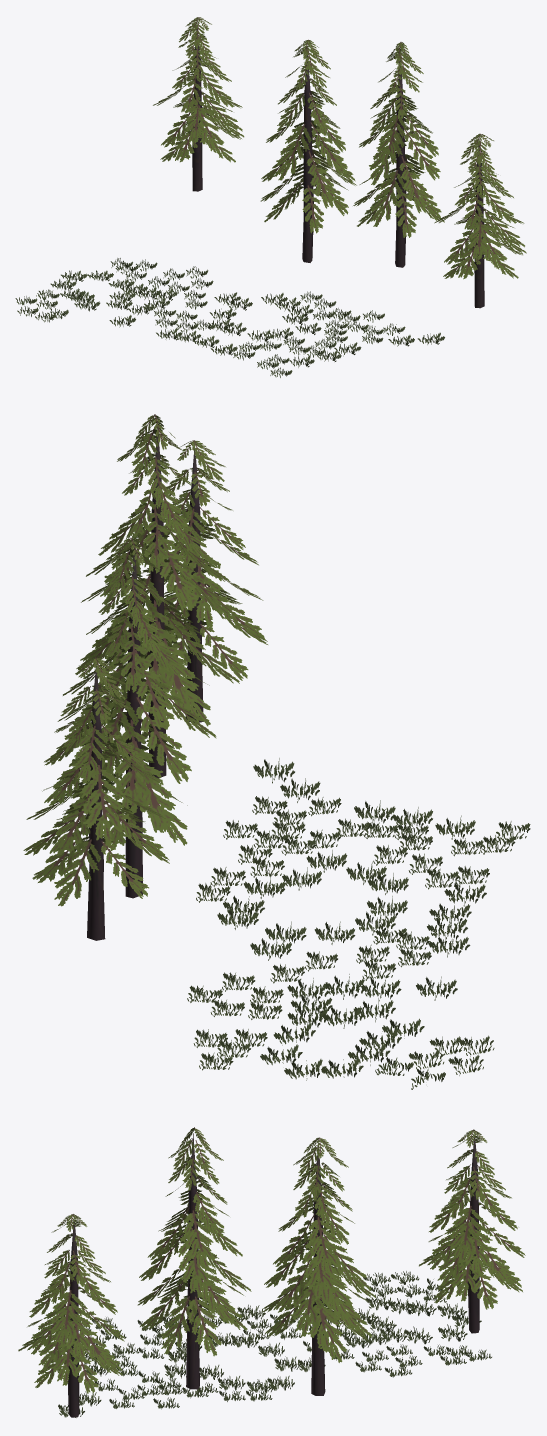
File: Ciudad_piedras03.fbx
3 views of the same model, one above another, from view 1: azimuth 30°, elevation 25°; view 2: azimuth 150°, elevation 25°; view 3: azimuth 270°, elevation 25° (orthographic). The views are drawn at different scales.
Visible parts, largest first — view 1: Ciudad_piedras03; view 2: Ciudad_piedras03; view 3: Ciudad_piedras03.
Boxes of the visible parts, bbox=[...] form: Ciudad_piedras03: bbox=[15, 17, 526, 377]; Ciudad_piedras03: bbox=[23, 414, 530, 1089]; Ciudad_piedras03: bbox=[18, 1127, 525, 1417].
Size of the model in its own units: 83.33 by 60.53 by 87.7.
